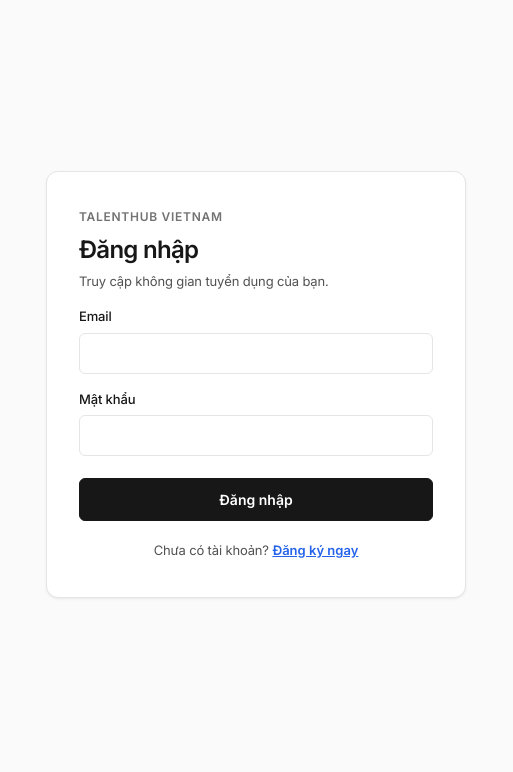
Test: TalentHub authentication shell › shows password guidance and field errors before registration submission
Click the button "Đăng ký ngay". click: (315, 551)
box: [272,541,358,560]
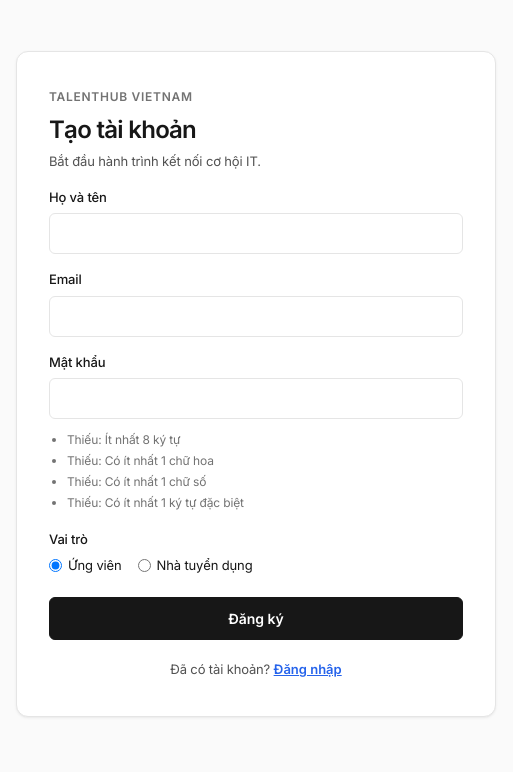
Click the button "Đăng ký". click: (256, 619)
box: [49,597,463,640]
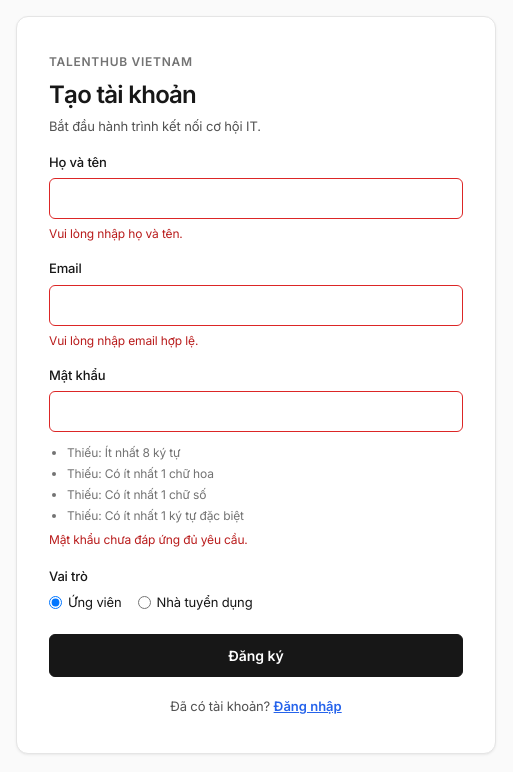
Result: the text "Vui lòng nhập họ và tên." is shown at [49,226,183,241]
Result: the text "Vui lòng nhập email hợp lệ." is shown at [49,332,198,348]
Result: the text "Mật khẩu chưa đáp ứng đủ yêu cầu." is shown at [49,532,248,547]
